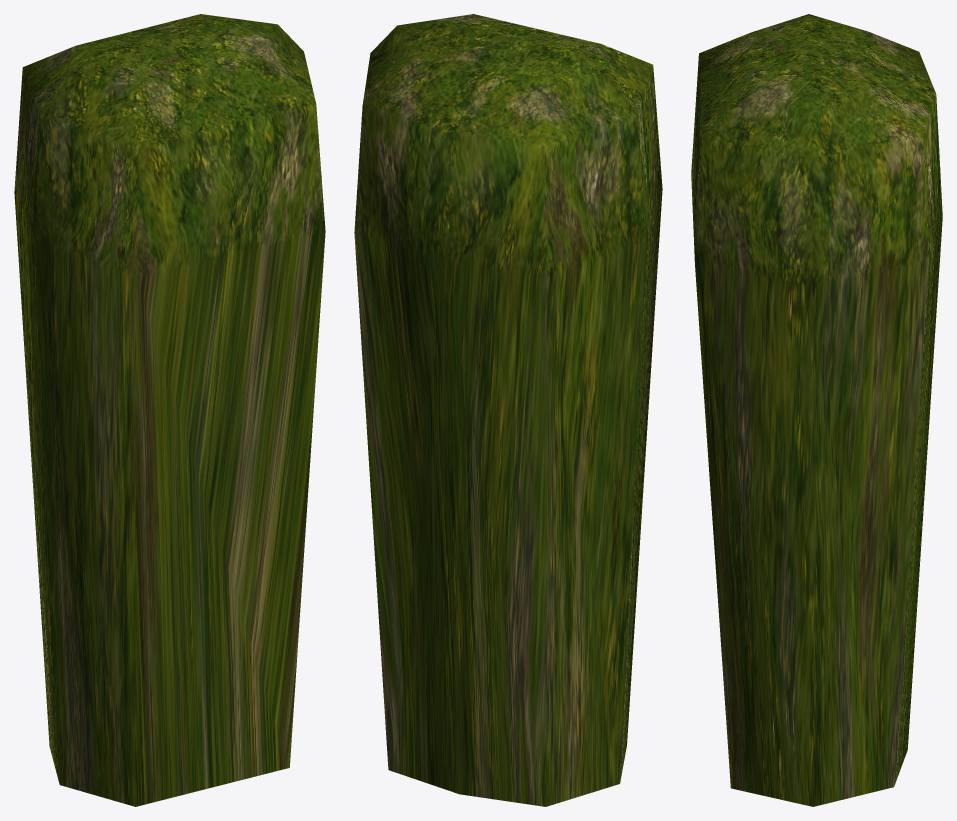
File: OVERHILL_A_01_BOX06.fbx
3 renders of one model, left to right at view 1: azimuth 30°, elevation 25°; view 2: azimuth 150°, elevation 25°; view 3: azimuth 270°, elevation 25°, orthographic. The views are drawn at different scales.
Visible parts, largest first — view 1: OVERHILL_A_01_BOX06; view 2: OVERHILL_A_01_BOX06; view 3: OVERHILL_A_01_BOX06.
Boxes of the visible parts, x1,y1,x2,y2 form: OVERHILL_A_01_BOX06: [14, 14, 325, 806]; OVERHILL_A_01_BOX06: [354, 14, 662, 806]; OVERHILL_A_01_BOX06: [691, 14, 942, 806].
Size of the model in its own units: 16367 by 40241 by 13075.
1 material, 1 textured.
